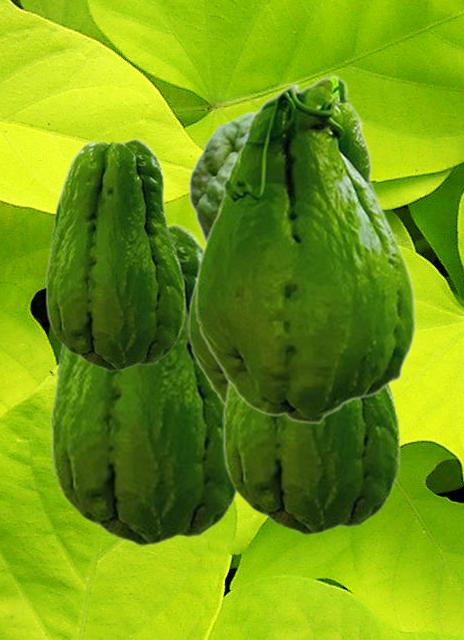sayote: (194, 74, 416, 424), (50, 222, 238, 546), (45, 137, 185, 371), (222, 377, 400, 535), (188, 109, 254, 242), (187, 272, 225, 404)
